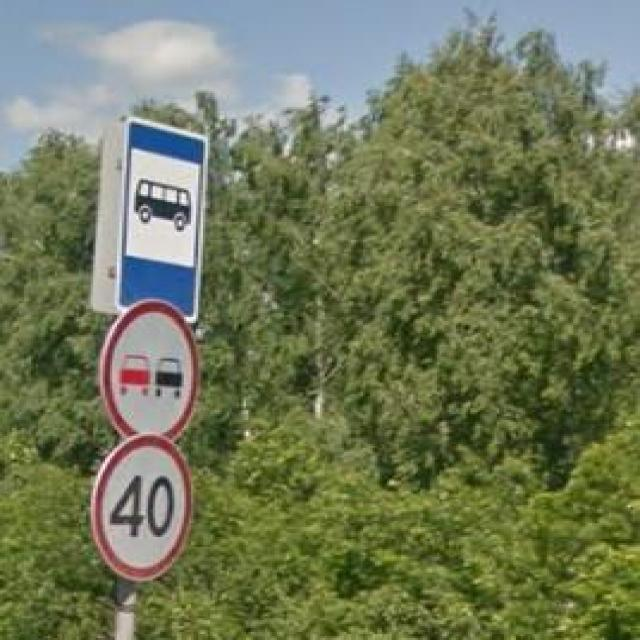traffic_sign: (115, 113, 210, 323), (91, 432, 193, 581)
